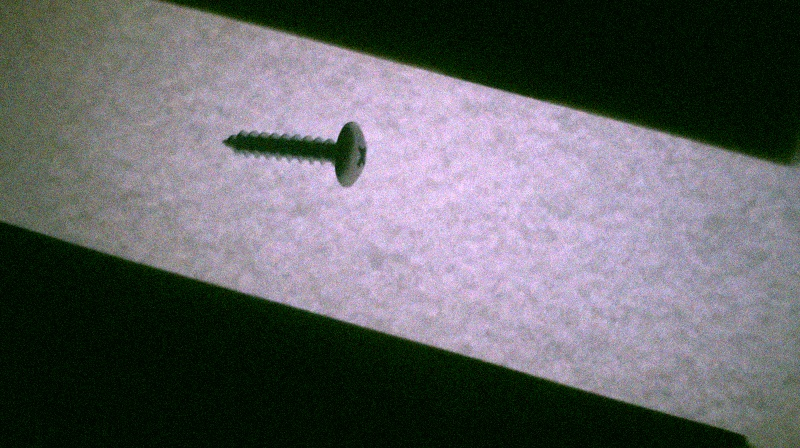S003: (217, 119, 370, 189)
